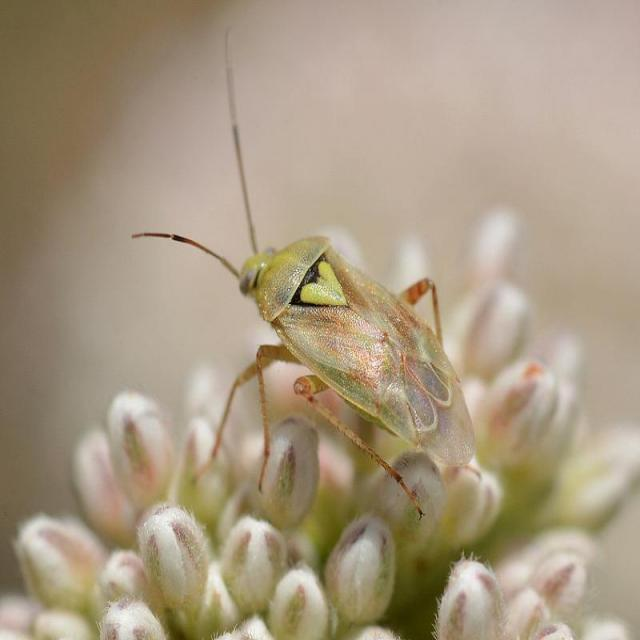Miridae-Adult-: (140, 17, 487, 532)
